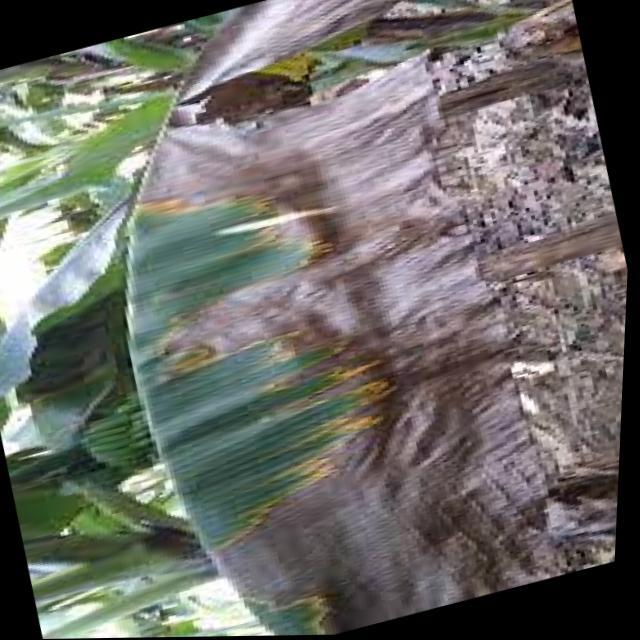Early_rust: (67, 8, 543, 627)
